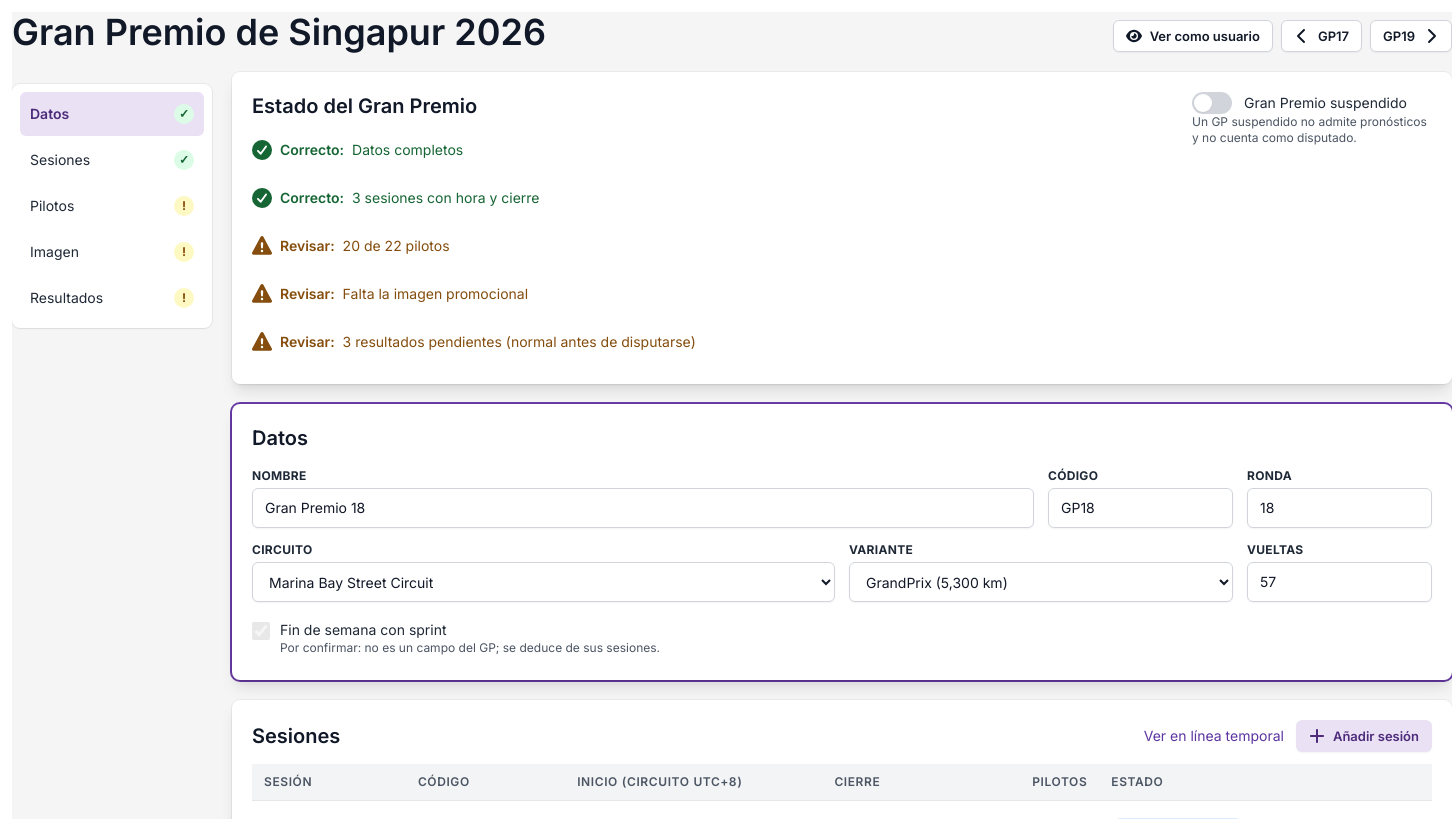
Test: admin GP edit (M3) › loads the variants of the chosen circuit
The image size is (1452, 819).
Select "Albert Park Circuit" in the dropdown labelled "Circuito" at (544, 582), box [252,562,835,602]
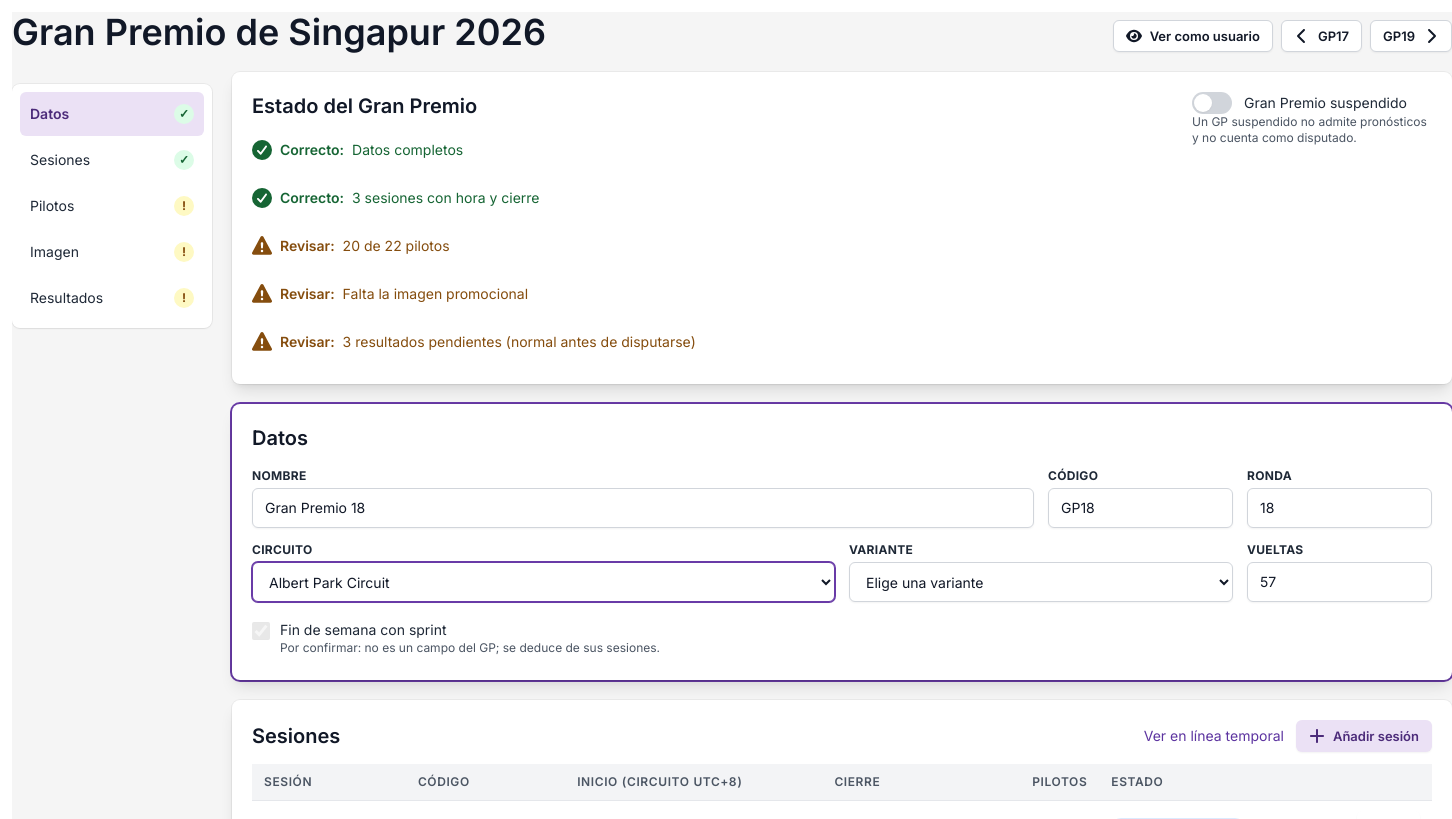
Expected: the dropdown labelled "Variante" shows "Elige una variante", [849,562,1233,602]
